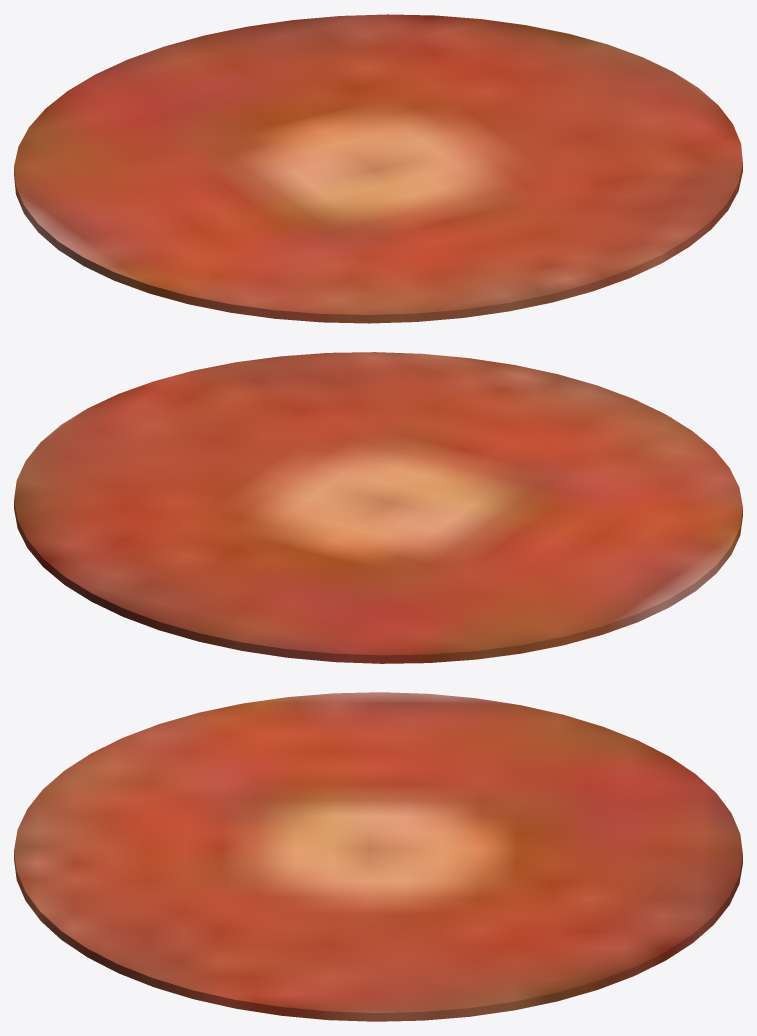
Rendered from RECORD_DISC_MOBILE.glb.
The picture shows the model from 3 angles, top to bottom: view 1: azimuth 30°, elevation 25°; view 2: azimuth 150°, elevation 25°; view 3: azimuth 270°, elevation 25°; orthographic projection. The views are drawn at different scales.
Parts seen in each view (by area): view 1: Stickersbox02_Cube.005; view 2: Stickersbox02_Cube.005; view 3: Stickersbox02_Cube.005.
Part boxes in pixels (x1,y1,x2,y2): Stickersbox02_Cube.005: [14, 14, 742, 323]; Stickersbox02_Cube.005: [14, 352, 742, 663]; Stickersbox02_Cube.005: [14, 692, 742, 1021].
Size of the model in its own units: 0.2052 by 0.00307 by 0.1971.
Materials: 1 (1 with a texture image).
